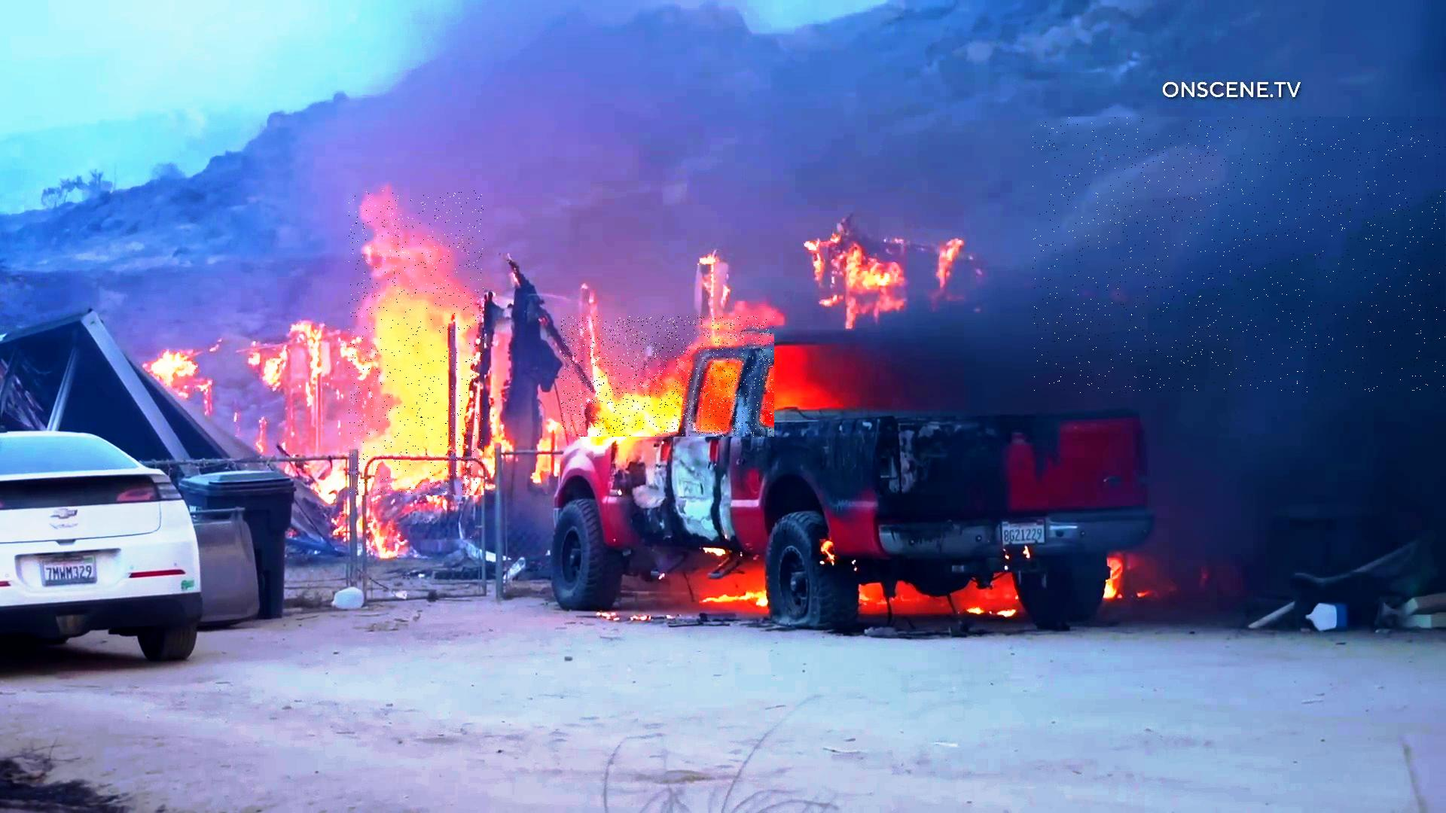fire: (349, 191, 484, 496), (561, 317, 774, 437)
smoke: (1032, 117, 1446, 393)
